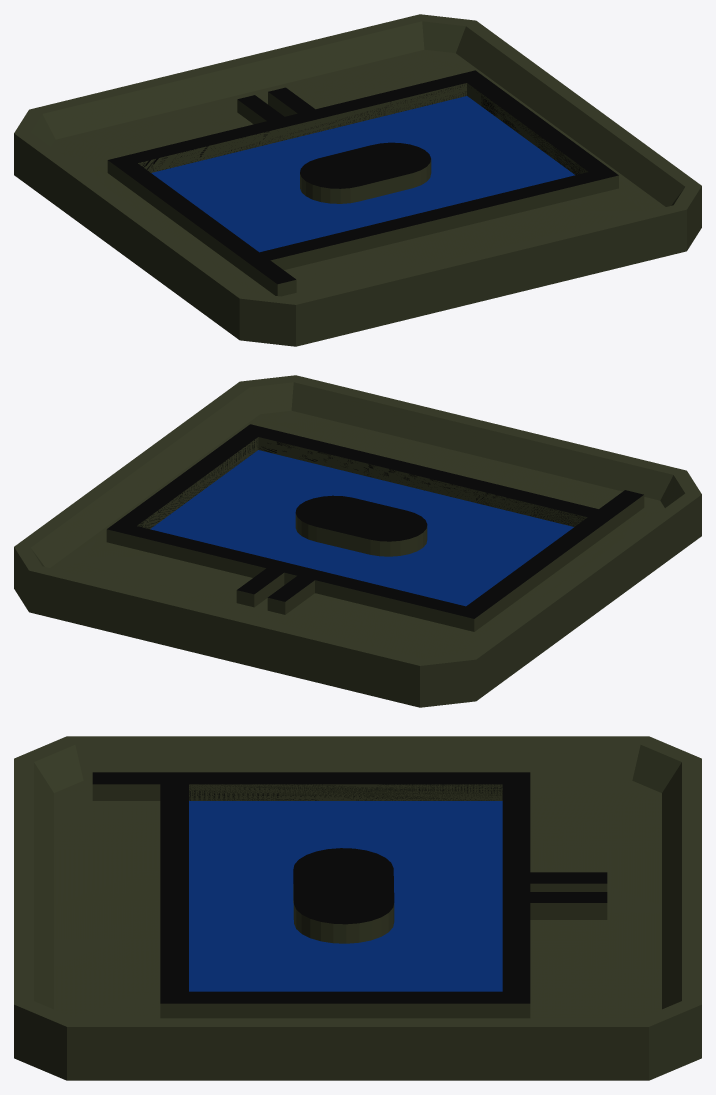
File: BUTTON_ORBAT_812REGT.dae
3 views of the same model, one above another, from view 1: azimuth 30°, elevation 25°; view 2: azimuth 150°, elevation 25°; view 3: azimuth 270°, elevation 25° (orthographic). The views are drawn at different scales.
Parts seen in each view (by area): view 1: SketchUp (×2), skp6DCE (×6); view 2: SketchUp (×2), skp6DCE (×6); view 3: SketchUp (×2), skp6DCE (×6).
Part boxes in pixels (box(x1,y1,x2,y2)): SketchUp (×2): box(14, 14, 701, 346); skp6DCE (×6): box(107, 70, 618, 296); SketchUp (×2): box(14, 375, 701, 707); skp6DCE (×6): box(106, 424, 644, 631); SketchUp (×2): box(14, 736, 701, 1080); skp6DCE (×6): box(92, 772, 607, 1018).
Size of the model in its own units: 39.37 by 39.37 by 3.4.
